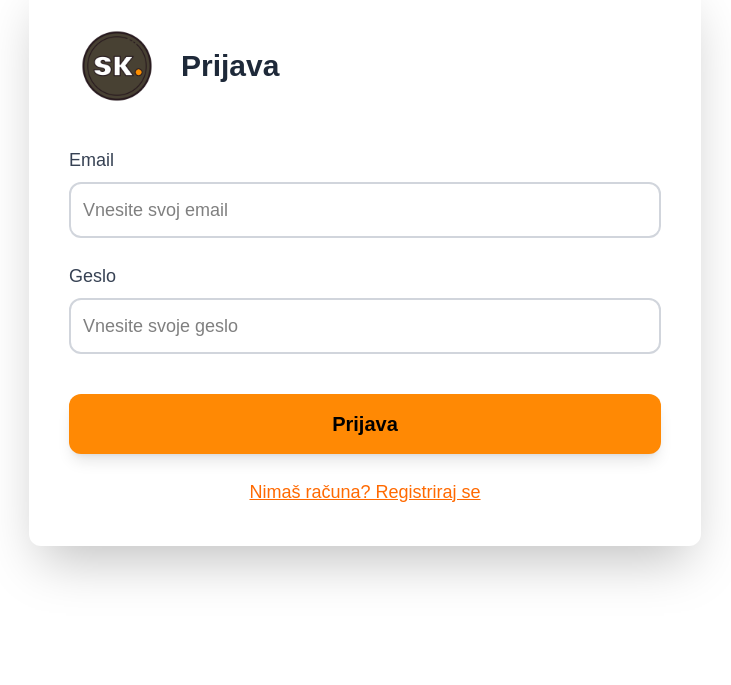
Test: AuthForm Component › Login Functionality › displays error message on failed login
In the field with placeholder "Vnesite svoj email": (365, 210) [69,182,661,238], type "test@example.com"
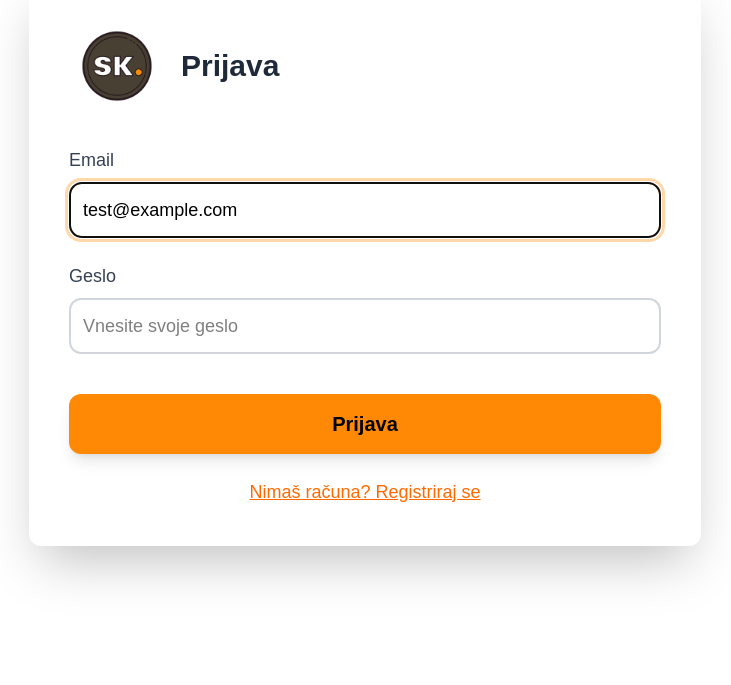
In the password field with placeholder "Vnesite svoje geslo": (365, 326) [69,298,661,354], type "wrongpassword"
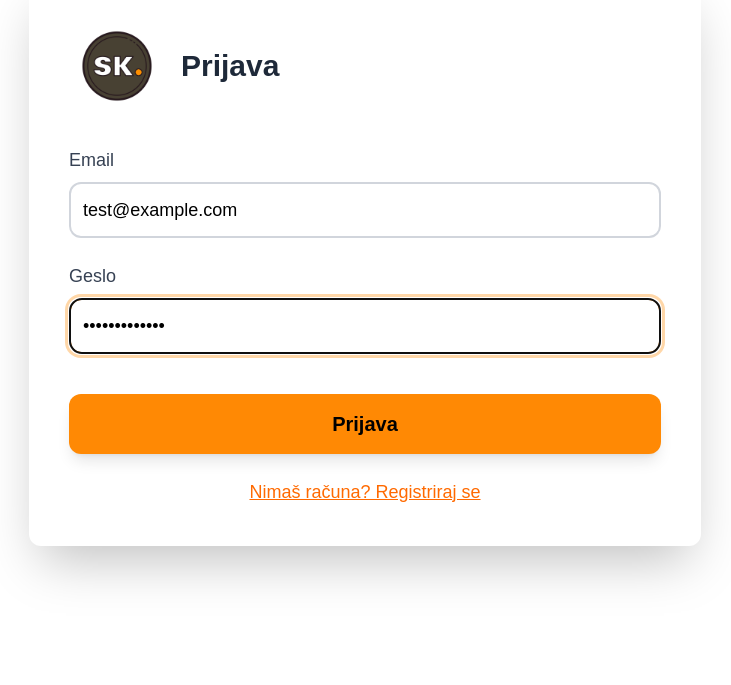
Click the button "Prijava": (365, 424) [69,394,661,454]
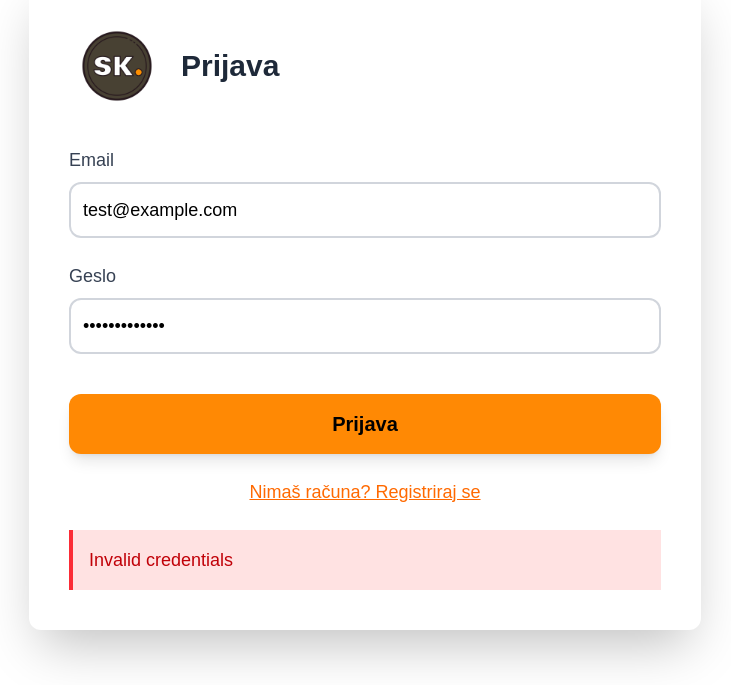
Check: the text "Invalid credentials" is shown, box [69,530,661,590]
